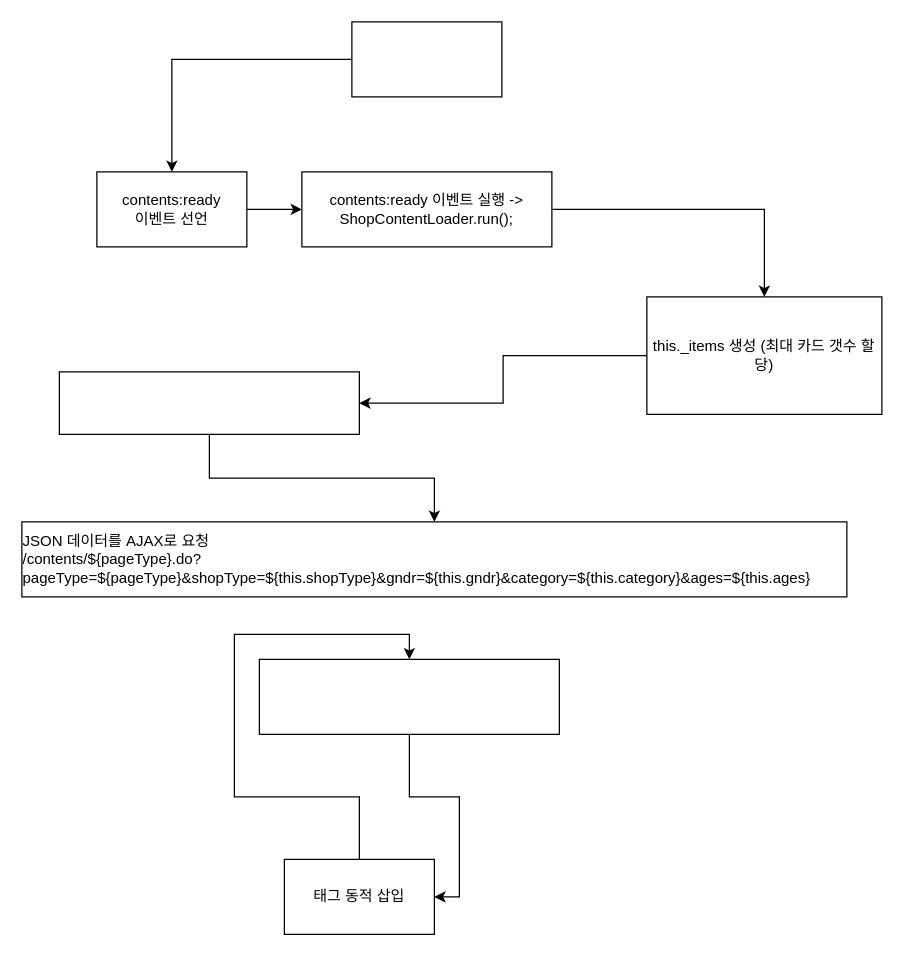
Image size: 904x956. Some labels were removed from this diagram. Each missing label, with the centre of its shape:
1. 컨텐츠 로더 생성: the point at 426,59
DataLoader.initWithUrlParams() 으로 주소 매개변수를 전부 가져온다.: the point at 208,402
스타일 시트 동적 생성 parent.createNewStyleSheet: the point at 408,696
